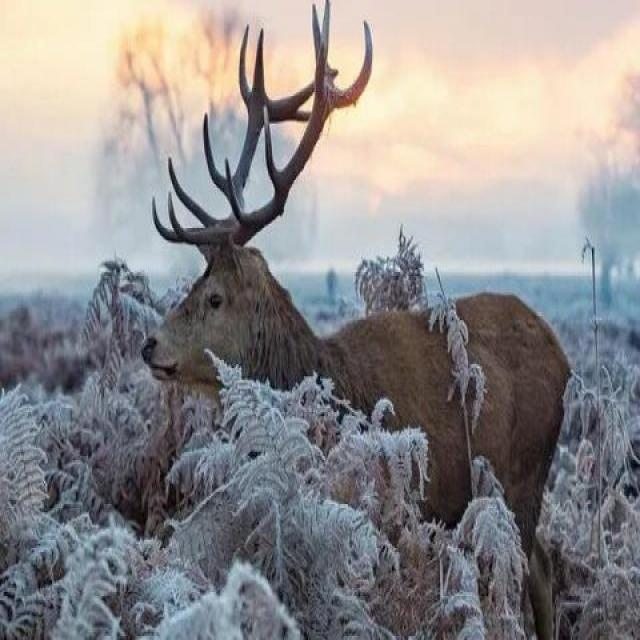deer: (132, 72, 570, 640)
